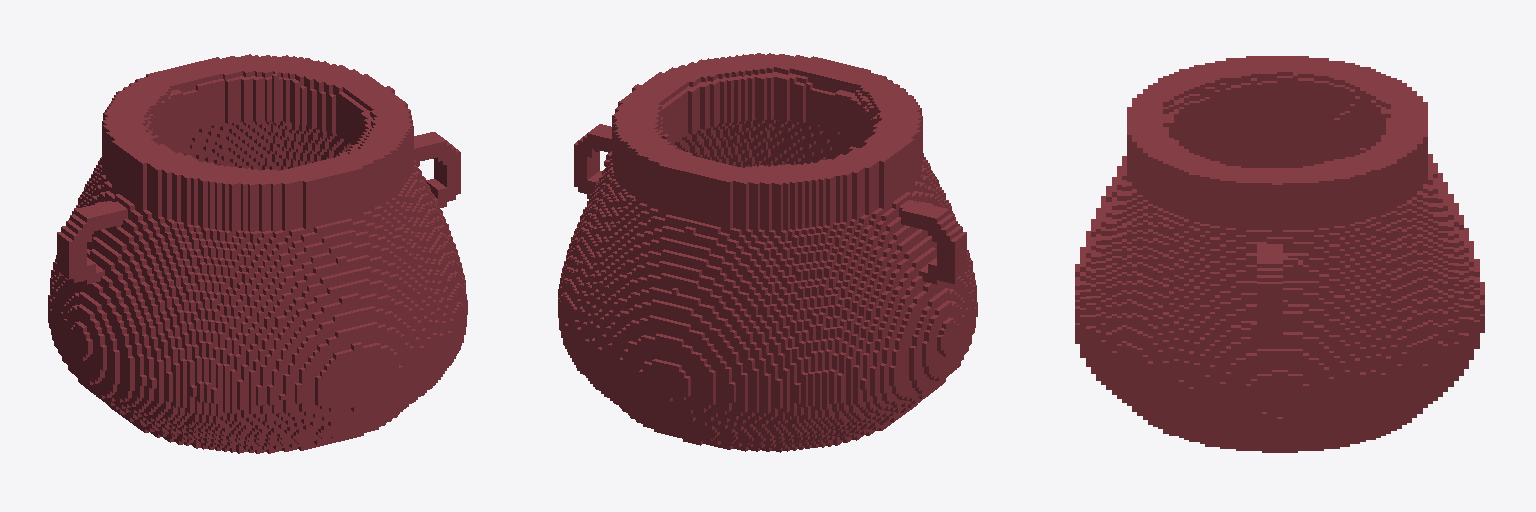
3 renders of one model, left to right at view 1: azimuth 30°, elevation 25°; view 2: azimuth 150°, elevation 25°; view 3: azimuth 270°, elevation 25°, orthographic.
Visible parts, largest first — view 1: object 1; view 2: object 1; view 3: object 1.
Part boxes in pixels (x1,y1,x2,y2): object 1: (48,54,467,453); object 1: (558,53,977,452); object 1: (1075,56,1484,452).
Bounding box in the file's own units: 8.6 × 5.8 × 7.9.
1 materials, 1 textured.